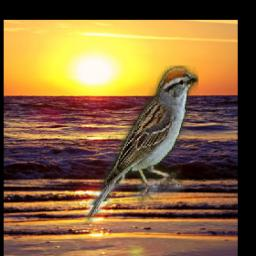Sparrow: (83, 66, 197, 226)
